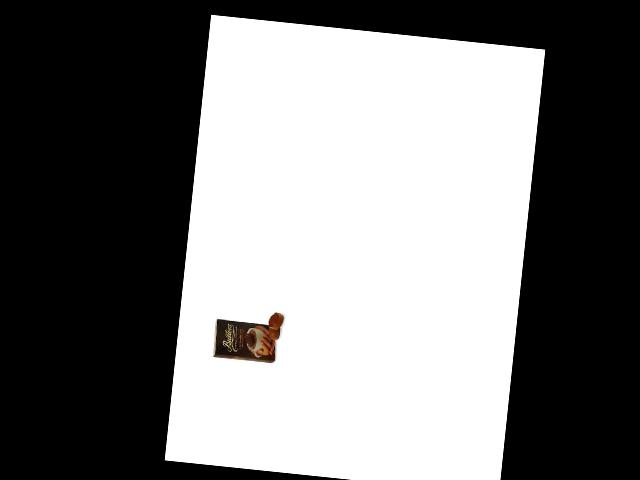chocolate: (209, 313, 280, 366)
